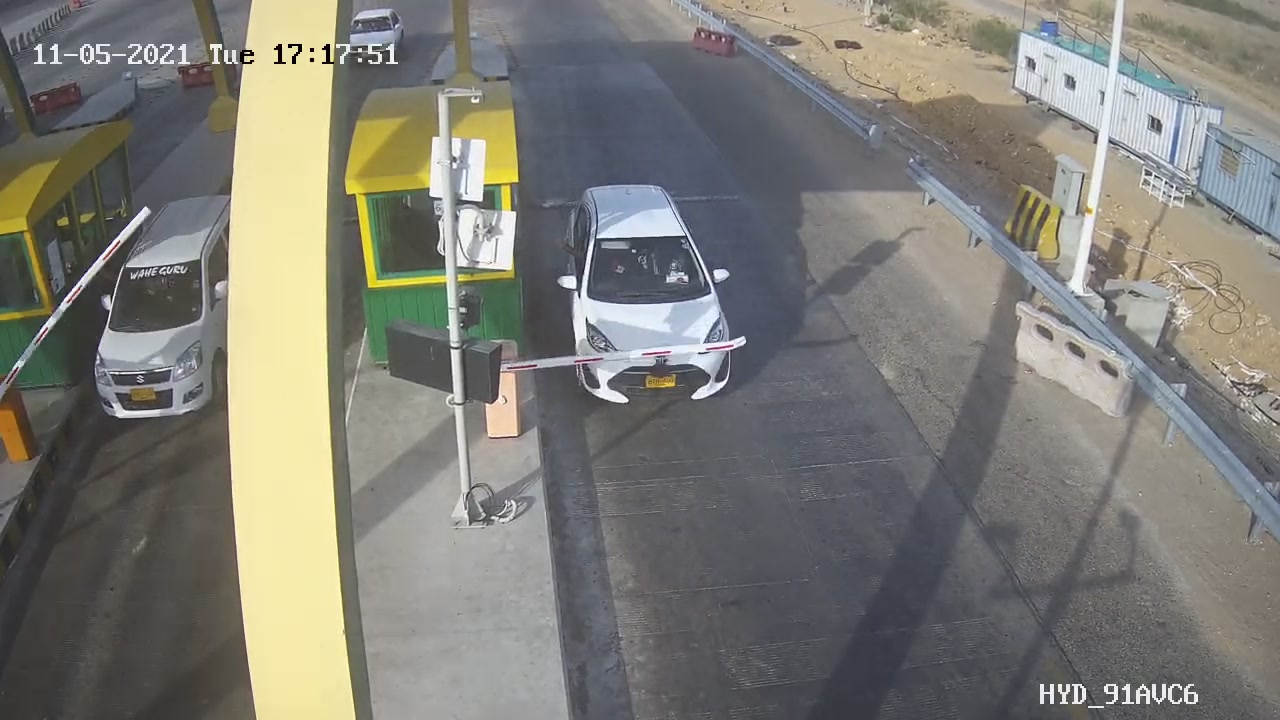F1: (538, 166, 764, 430)
